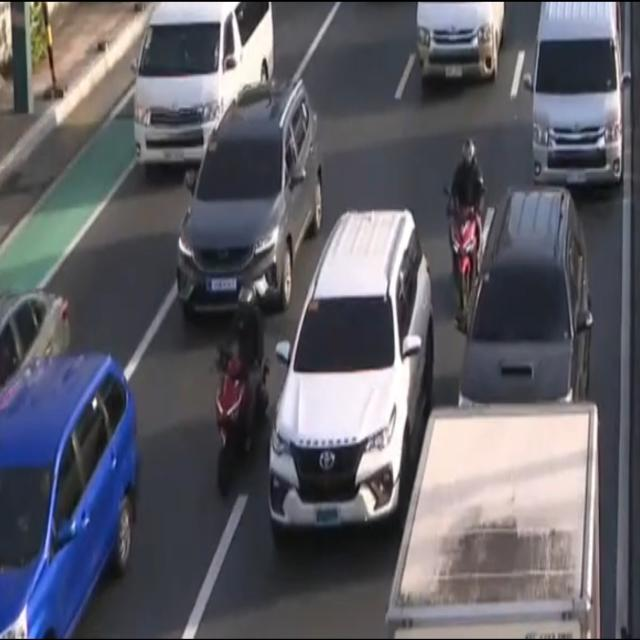Motorcycle: (181, 273, 285, 498), (439, 123, 496, 331)
SUV: (260, 196, 446, 556), (0, 334, 149, 640), (168, 60, 326, 322), (452, 188, 596, 422)
Sedan: (0, 264, 81, 408)
Van: (128, 0, 280, 178), (528, 0, 634, 195)
